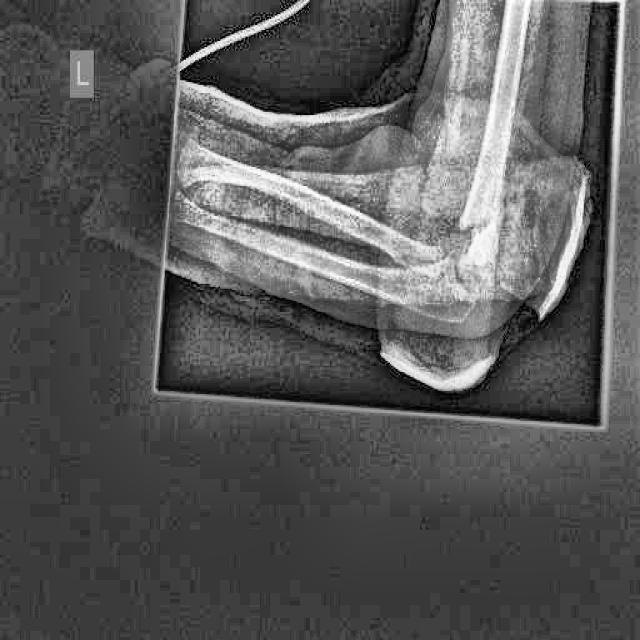humerus: (418, 170, 493, 275)
